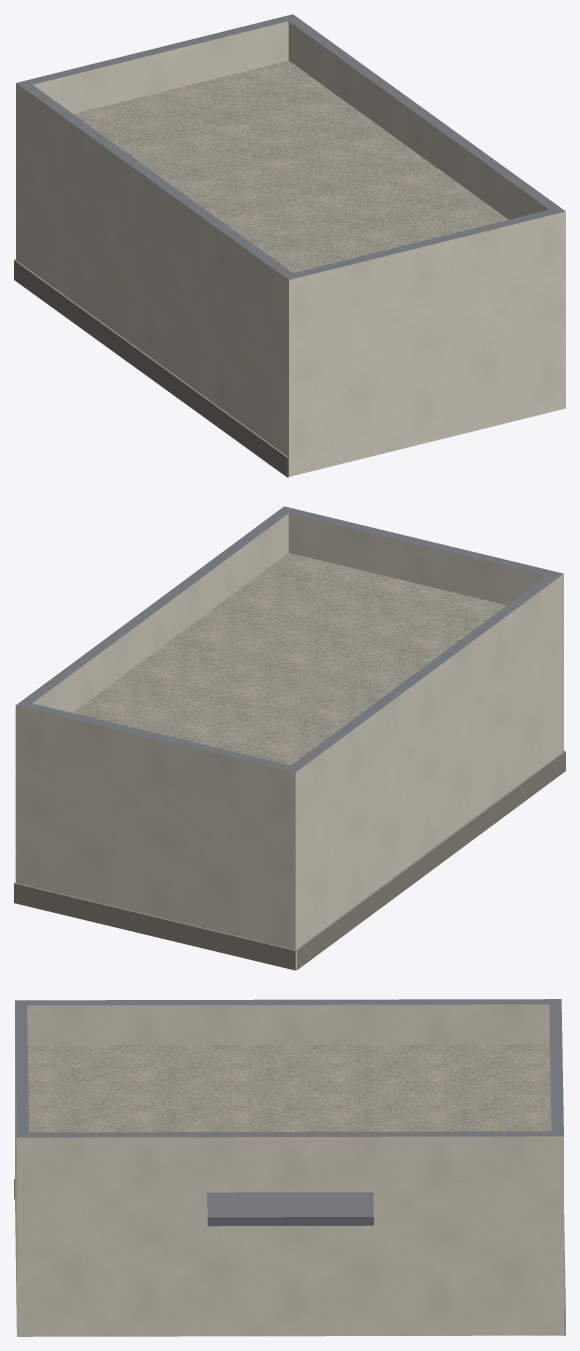
3 views of the same model, one above another, from view 1: azimuth 30°, elevation 25°; view 2: azimuth 150°, elevation 25°; view 3: azimuth 270°, elevation 25° (orthographic).
Visible parts, largest first — view 1: B-w1153373360_muros, B-w1153373360_cubierta, B-w1153373360_lejos, B-w1153373360_molduras; view 2: B-w1153373360_cubierta, B-w1153373360_muros, B-w1153373360_lejos, B-w1153373360_molduras; view 3: B-w1153373360_muros, B-w1153373360_cubierta, B-w1153373360_remates.
Boxes of the visible parts, bbox=[...] form: B-w1153373360_muros: bbox=[16, 83, 565, 476]; B-w1153373360_cubierta: bbox=[16, 14, 565, 279]; B-w1153373360_lejos: bbox=[16, 122, 565, 476]; B-w1153373360_molduras: bbox=[14, 259, 288, 477]; B-w1153373360_cubierta: bbox=[16, 506, 563, 772]; B-w1153373360_muros: bbox=[15, 574, 563, 949]; B-w1153373360_lejos: bbox=[15, 613, 563, 969]; B-w1153373360_molduras: bbox=[14, 751, 565, 970]; B-w1153373360_muros: bbox=[15, 1013, 563, 1336]; B-w1153373360_cubierta: bbox=[15, 999, 563, 1177]; B-w1153373360_remates: bbox=[207, 1192, 373, 1226].
Bounding box in the file's own units: 7.93 × 4.5 × 11.3.
5 materials, 2 textured.
